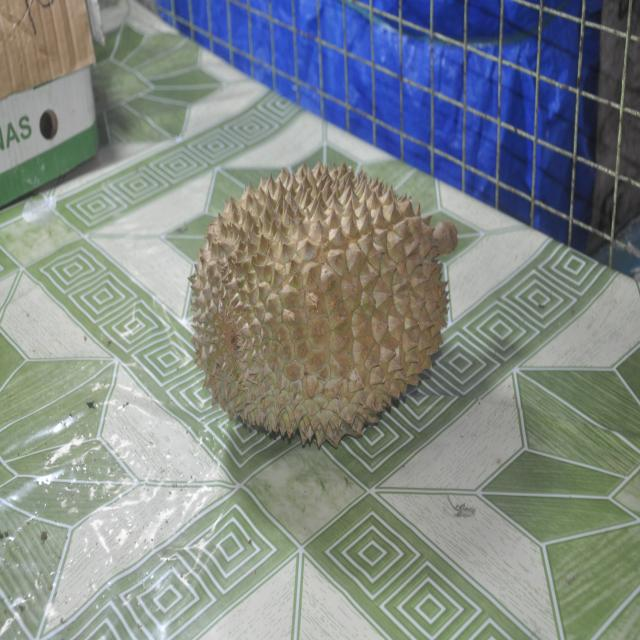mature: (191, 162, 457, 446)
